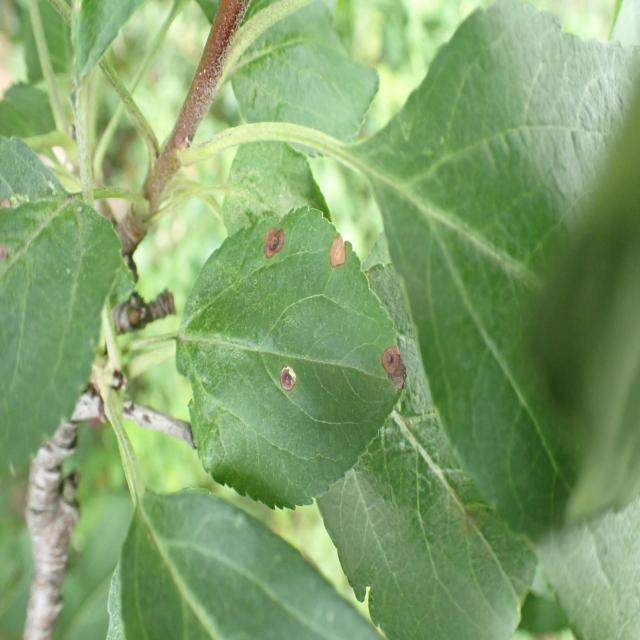frog-eye-leaf-spot: (174, 204, 408, 512)
